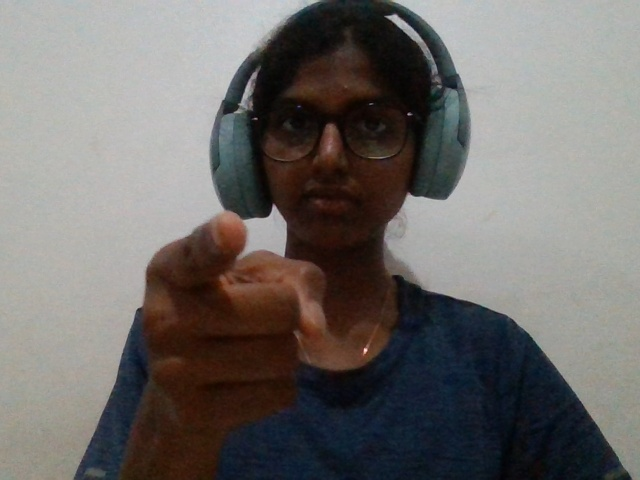You: (103, 178, 383, 480)
